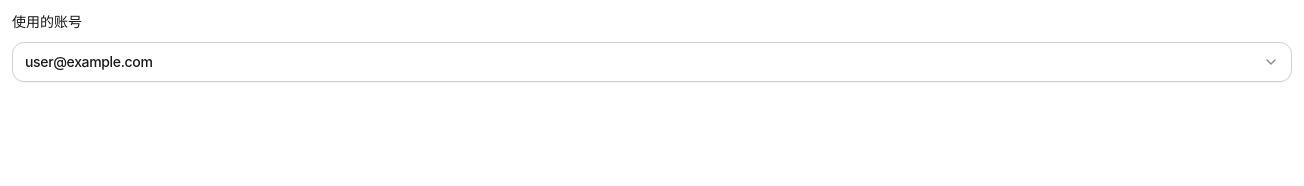
Test: CodexOAuthSection › requires a managed account on managed Official cards
The image size is (1304, 186).
What coordinates should you click on to do the following:
click the dropdown
I would click on:
 (89, 62)
Its box is [12,42,1292,82].
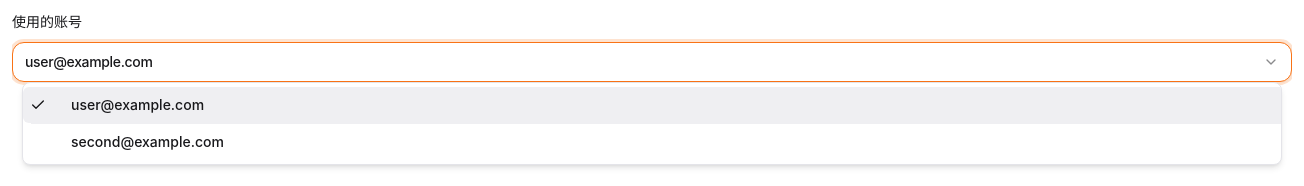
Now the option "second@example.com" is shown, box [71,133,224,150]
